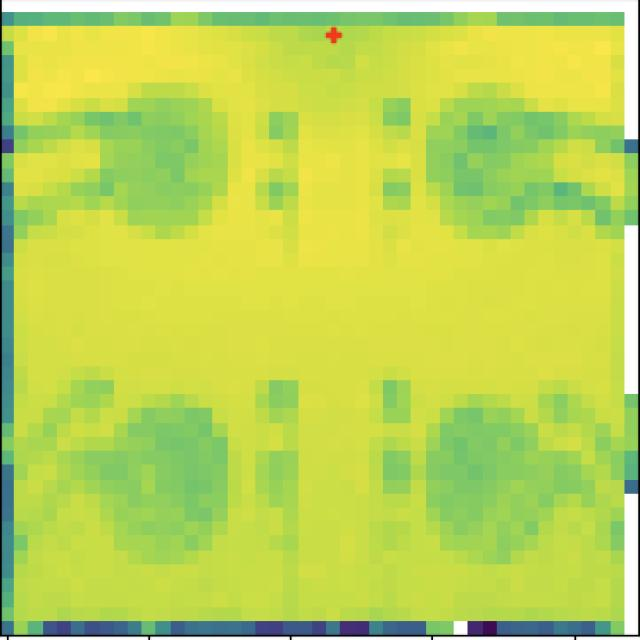Concrete: (86, 372, 253, 583)
Glass: (415, 378, 576, 574)
Metal: (92, 78, 255, 253)
Wood: (422, 72, 570, 236)
